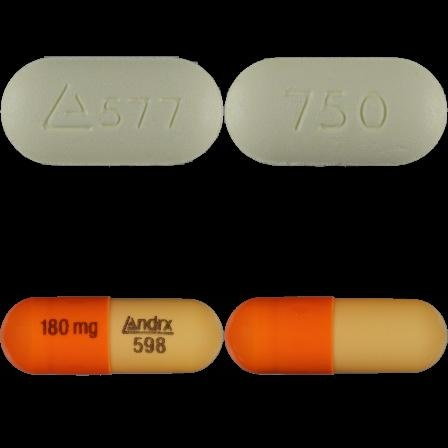62037-577: (0, 0, 224, 224)
